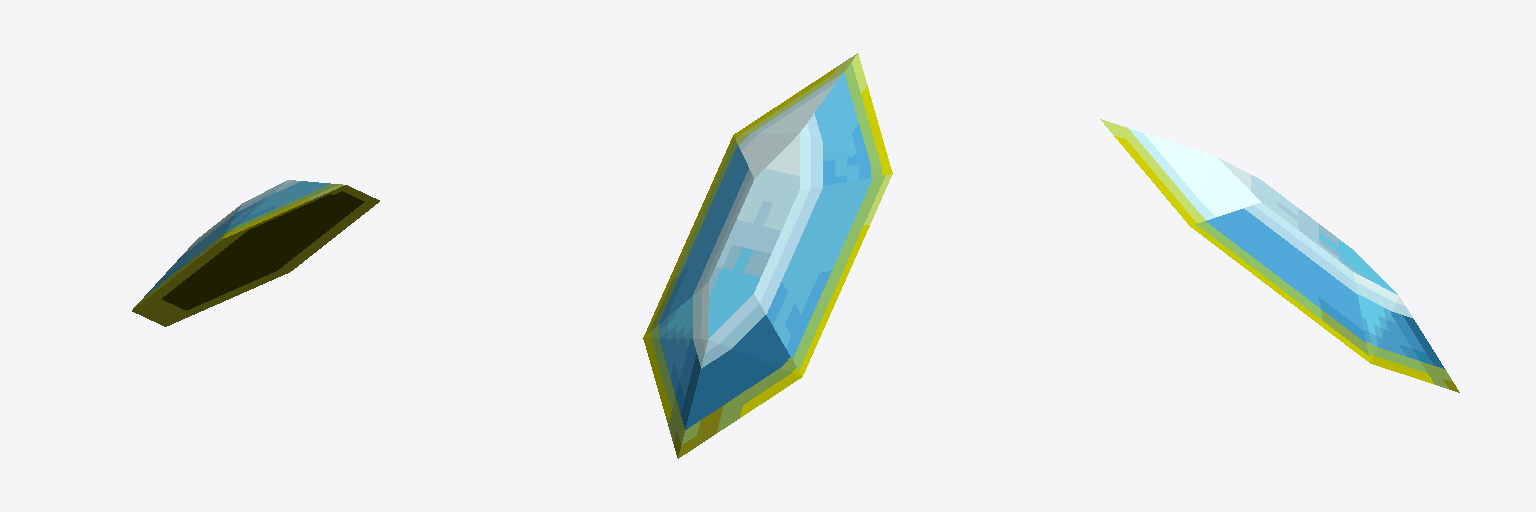
3 views of the same model, side by side, from view 1: azimuth 30°, elevation 25°; view 2: azimuth 150°, elevation 25°; view 3: azimuth 270°, elevation 25° (orthographic).
Visible parts, largest first — view 1: w269_ncl1_1; view 2: w269_ncl1_1; view 3: w269_ncl1_1.
Boxes of the visible parts, box(x1,y1,x2,y2) form: w269_ncl1_1: box(132, 180, 379, 326); w269_ncl1_1: box(643, 53, 892, 458); w269_ncl1_1: box(1100, 119, 1459, 392).
Size of the model in its own units: 2.67 by 4.39 by 5.23.
1 materials, 1 textured.